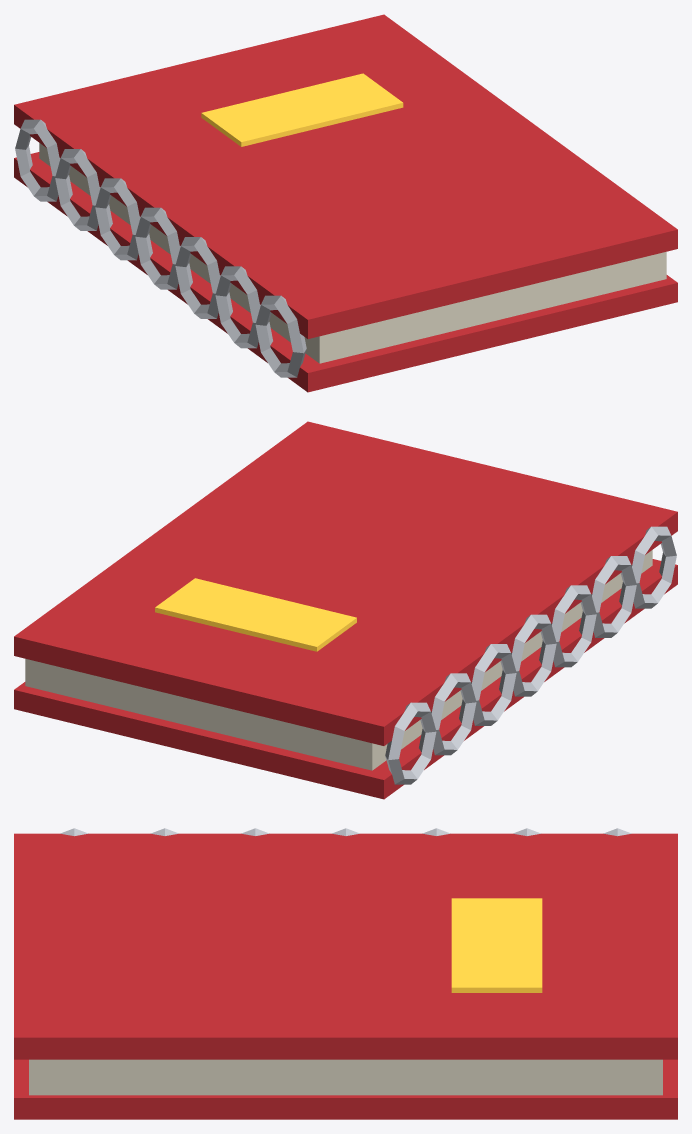
File: betting_book.glb
3 views of the same model, one above another, from view 1: azimuth 30°, elevation 25°; view 2: azimuth 150°, elevation 25°; view 3: azimuth 270°, elevation 25° (orthographic). The views are drawn at different scales.
Parts seen in each view (by area): view 1: book_book_red, book_wire, book_paper, book_gold; view 2: book_book_red, book_wire, book_paper, book_gold; view 3: book_book_red, book_paper, book_gold, book_wire.
Part boxes in pixels (<box>): book_book_red: <box>14,14,677,392</box>; book_wire: <box>15,119,306,377</box>; book_paper: <box>39,143,666,363</box>; book_gold: <box>201,73,403,146</box>; book_book_red: <box>14,421,677,799</box>; book_wire: <box>385,526,676,784</box>; book_paper: <box>25,550,652,770</box>; book_gold: <box>155,578,356,651</box>; book_book_red: <box>14,833,677,1119</box>; book_paper: <box>29,1059,662,1095</box>; book_gold: <box>451,898,542,992</box>; book_wire: <box>60,828,631,836</box>.
Bounding box in the file's own units: 0.163 × 0.034 × 0.22.
